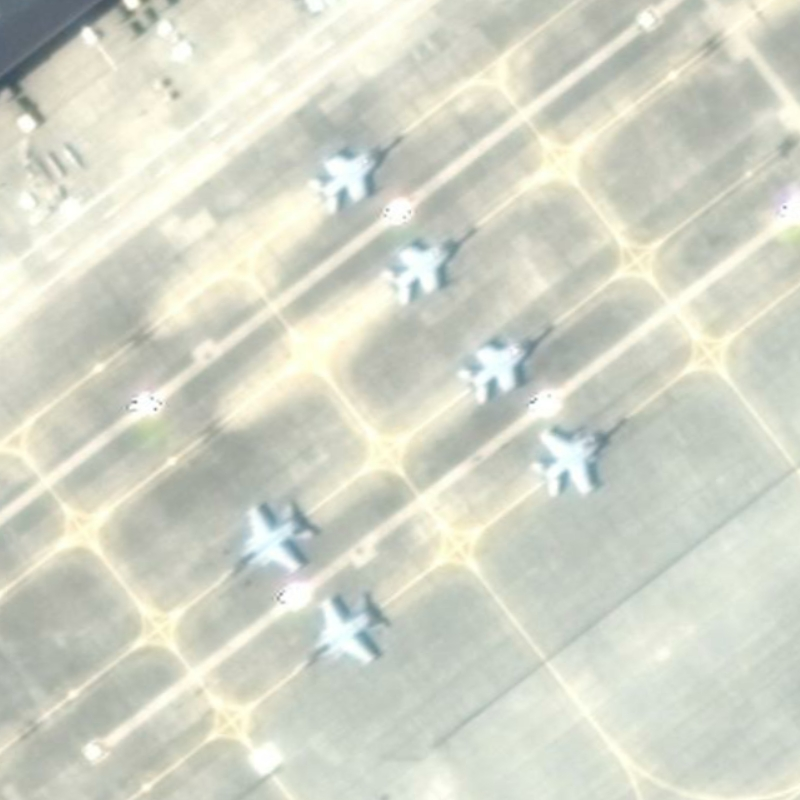A16: (204, 490, 320, 595), (282, 589, 388, 683), (376, 218, 483, 311), (301, 126, 404, 220), (521, 412, 626, 503), (451, 319, 559, 406)
